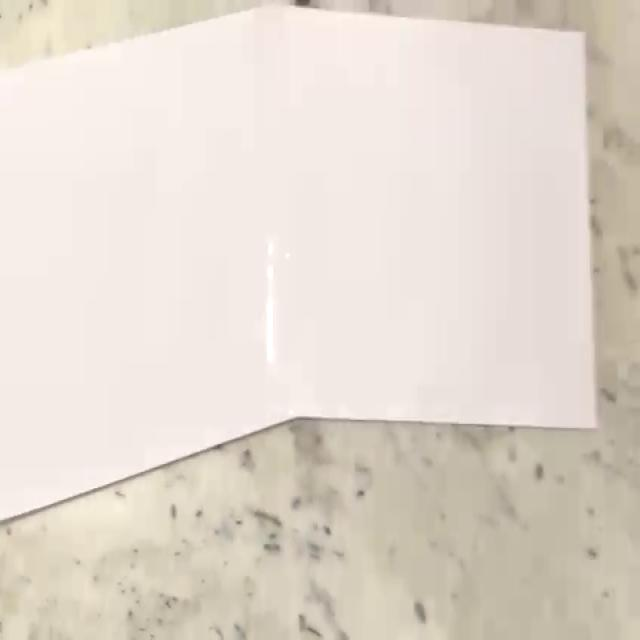road: (0, 4, 600, 523)
